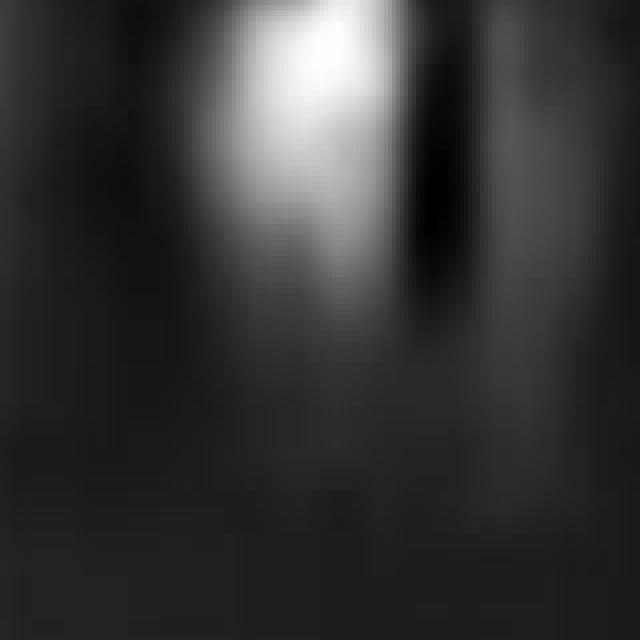person: (173, 1, 425, 417), (473, 1, 601, 406)
